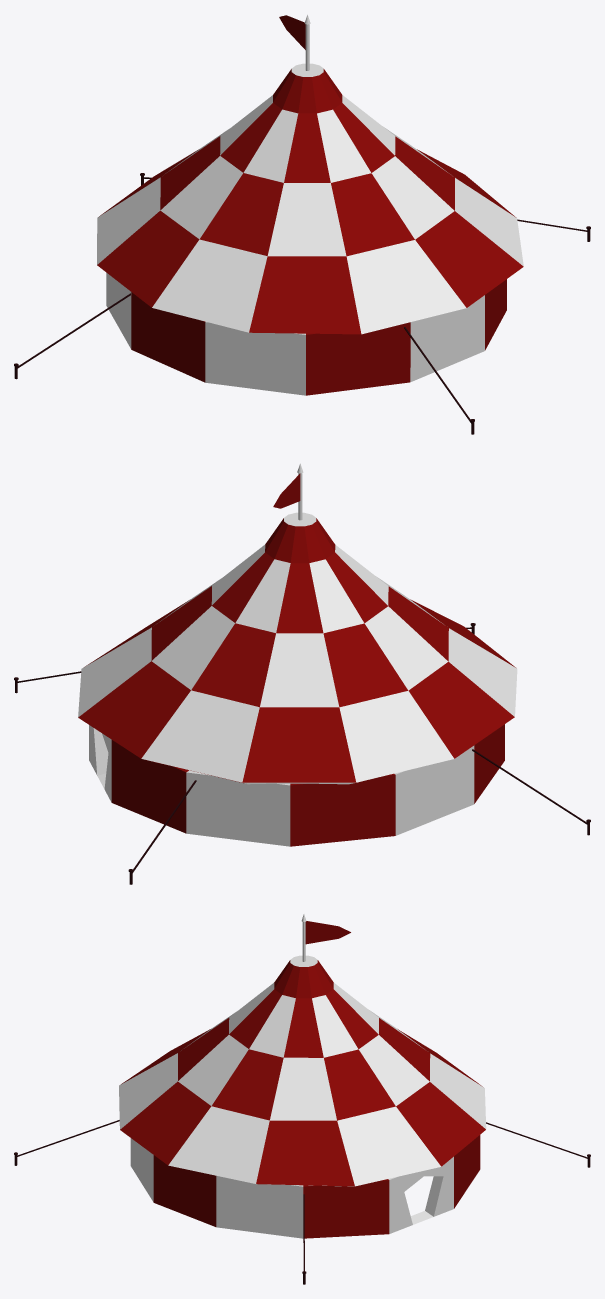
File: Circus Tent with lights.fbx
3 views of the same model, one above another, from view 1: azimuth 30°, elevation 25°; view 2: azimuth 150°, elevation 25°; view 3: azimuth 270°, elevation 25° (orthographic). The views are drawn at different scales.
Visible parts, largest first — view 1: Cylinder.001, Cylinder.002; view 2: Cylinder.001, Cylinder.002; view 3: Cylinder.001, Cylinder.002.
Part boxes in pixels (<box>): Cylinder.001: <box>97,63,523,395</box>; Cylinder.002: <box>279,15,310,70</box>; Cylinder.001: <box>78,512,517,846</box>; Cylinder.002: <box>273,463,303,520</box>; Cylinder.001: <box>119,955,486,1238</box>; Cylinder.002: <box>301,914,350,961</box>.
Bounding box in the file's own units: 783 × 387 × 797.
